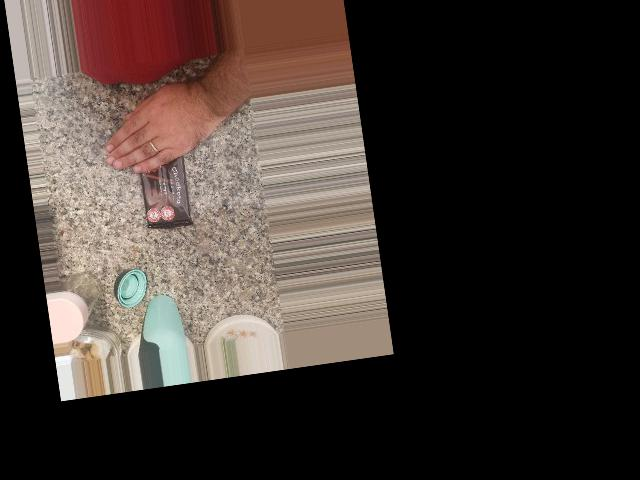chocolate: (127, 117, 202, 235)
